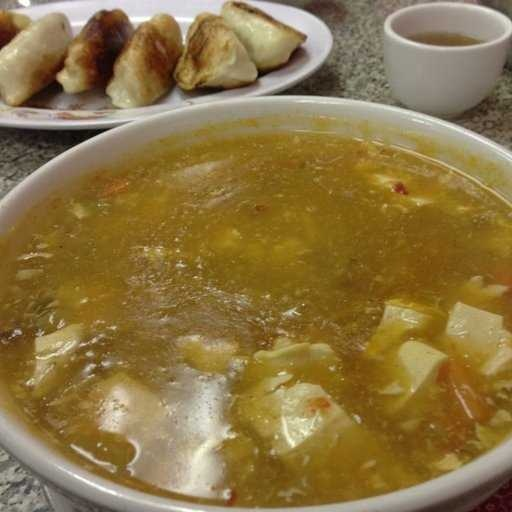soup: (1, 118, 503, 492)
